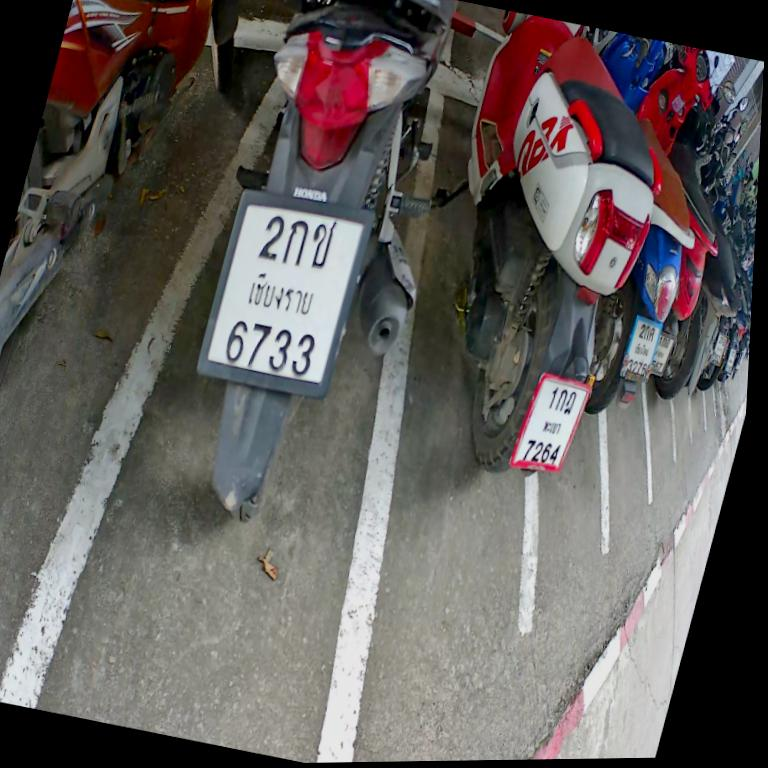license plate: (178, 172, 387, 416), (504, 360, 598, 490), (608, 300, 671, 399), (646, 323, 684, 386), (703, 321, 738, 376)
